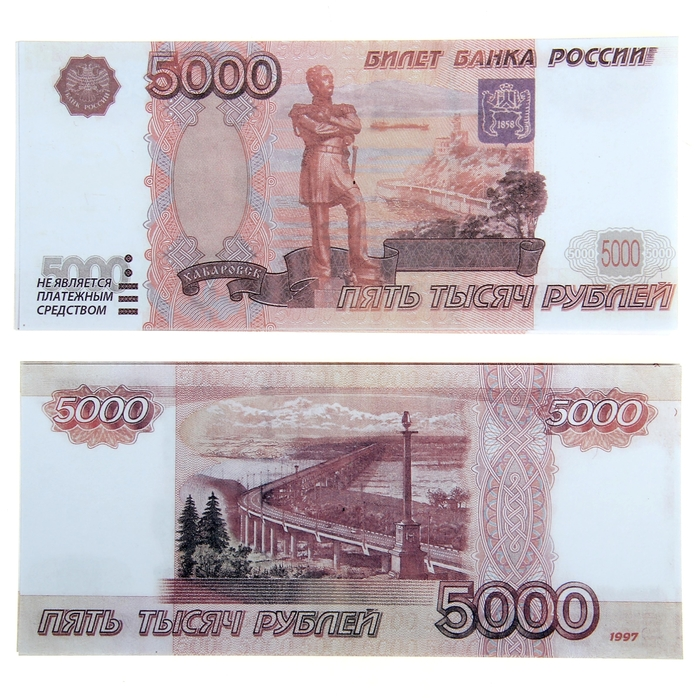cash: (18, 361, 683, 659), (14, 36, 679, 331)
